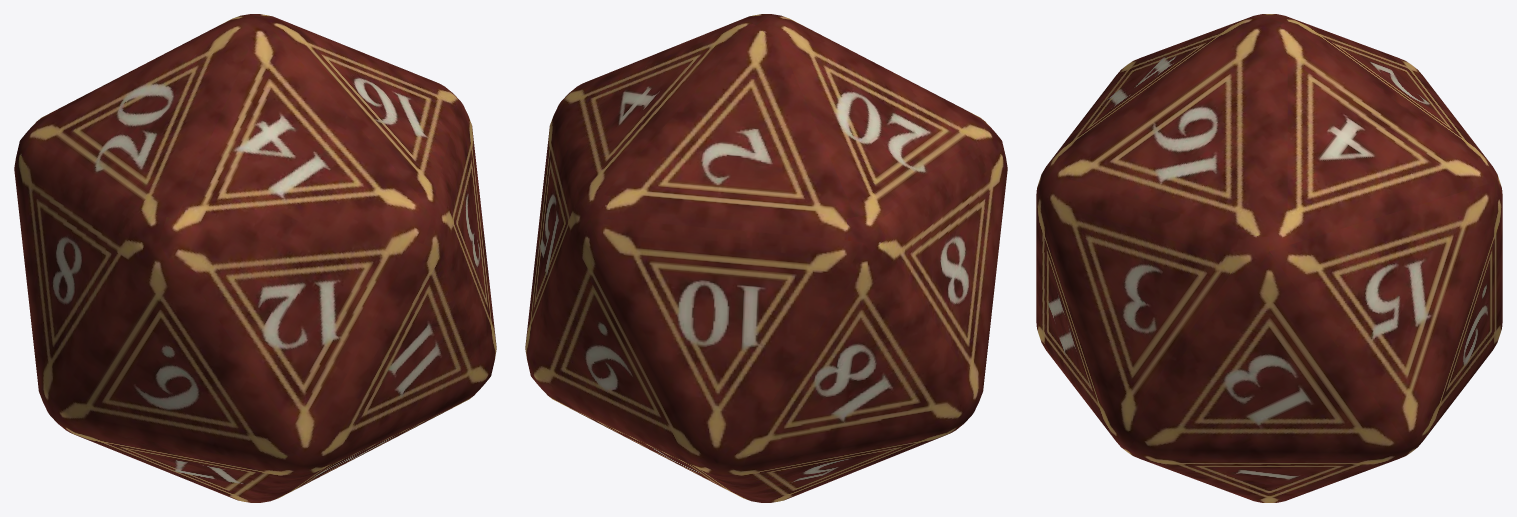
The model's file is redguard-d20.glb.
The picture shows the model from 3 angles, left to right: view 1: azimuth 30°, elevation 25°; view 2: azimuth 150°, elevation 25°; view 3: azimuth 270°, elevation 25°; orthographic projection.
Visible parts, largest first — view 1: redguard_d20; view 2: redguard_d20; view 3: redguard_d20.
Part boxes in pixels (x1,y1,x2,y2): redguard_d20: (14,14,496,502); redguard_d20: (525,14,1007,502); redguard_d20: (1036,14,1502,502).
Size of the model in its own units: 1.74 by 1.9 by 1.67.
Materials: 1 (1 with a texture image).
